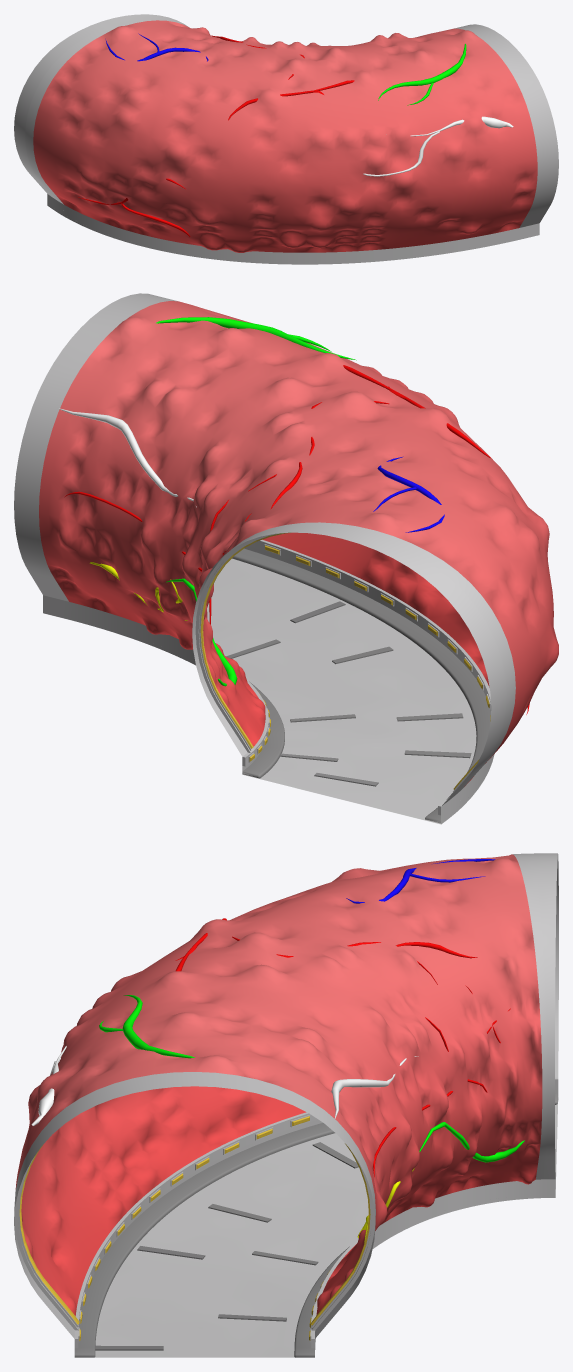
Rendered from Terowongan_1_Kanan.fbx.
3 views of the same model, one above another, from view 1: azimuth 30°, elevation 25°; view 2: azimuth 150°, elevation 25°; view 3: azimuth 270°, elevation 25° (orthographic). The views are drawn at different scales.
Visible parts, largest first — view 1: Terowongan 1_Kanan; view 2: Terowongan 1_Kanan; view 3: Terowongan 1_Kanan.
Part boxes in pixels (bbox=[...]): Terowongan 1_Kanan: bbox=[14, 14, 558, 264]; Terowongan 1_Kanan: bbox=[14, 293, 558, 824]; Terowongan 1_Kanan: bbox=[14, 853, 558, 1357].
Size of the model in its own units: 989 by 450 by 794.
Materials: 4 (4 with a texture image).
